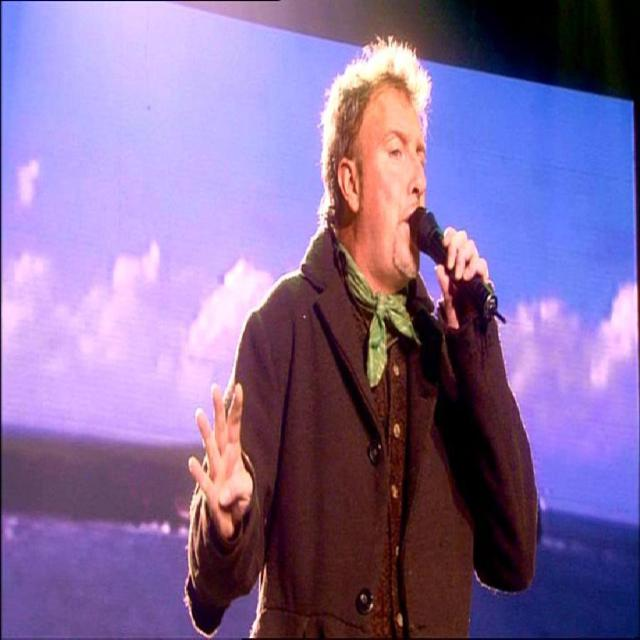Face: (345, 73, 447, 286)
